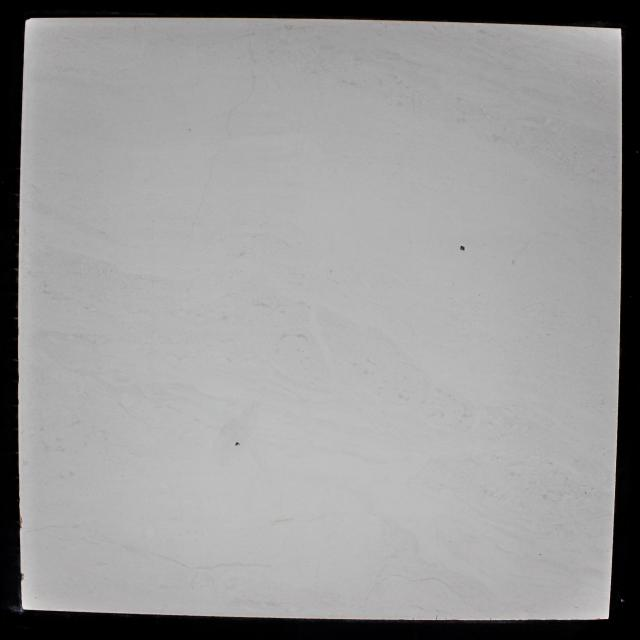edge-chipping: (20, 572, 26, 583), (19, 514, 23, 530)
hole: (460, 245, 466, 252), (234, 442, 240, 447)
line: (436, 614, 438, 620)
